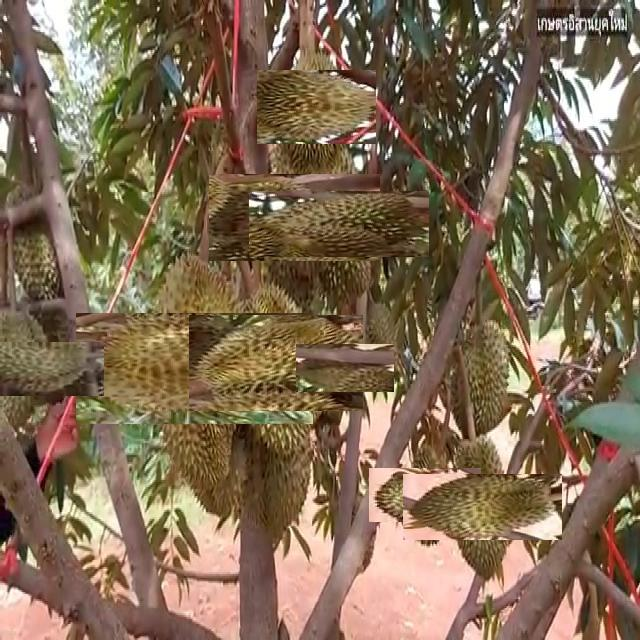durian: (107, 281, 282, 456), (209, 295, 344, 431), (230, 153, 359, 282), (278, 162, 401, 286), (425, 451, 539, 564), (0, 176, 68, 314), (268, 59, 364, 155), (447, 314, 516, 442), (0, 317, 79, 421), (383, 454, 467, 537), (309, 331, 382, 404), (363, 297, 409, 389)
